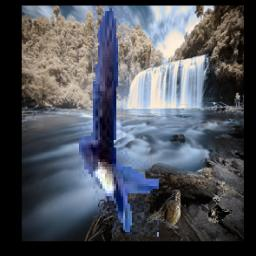Crow: (208, 197, 233, 224)
Sparrow: (148, 190, 181, 228)
Swallow: (79, 6, 159, 237)
